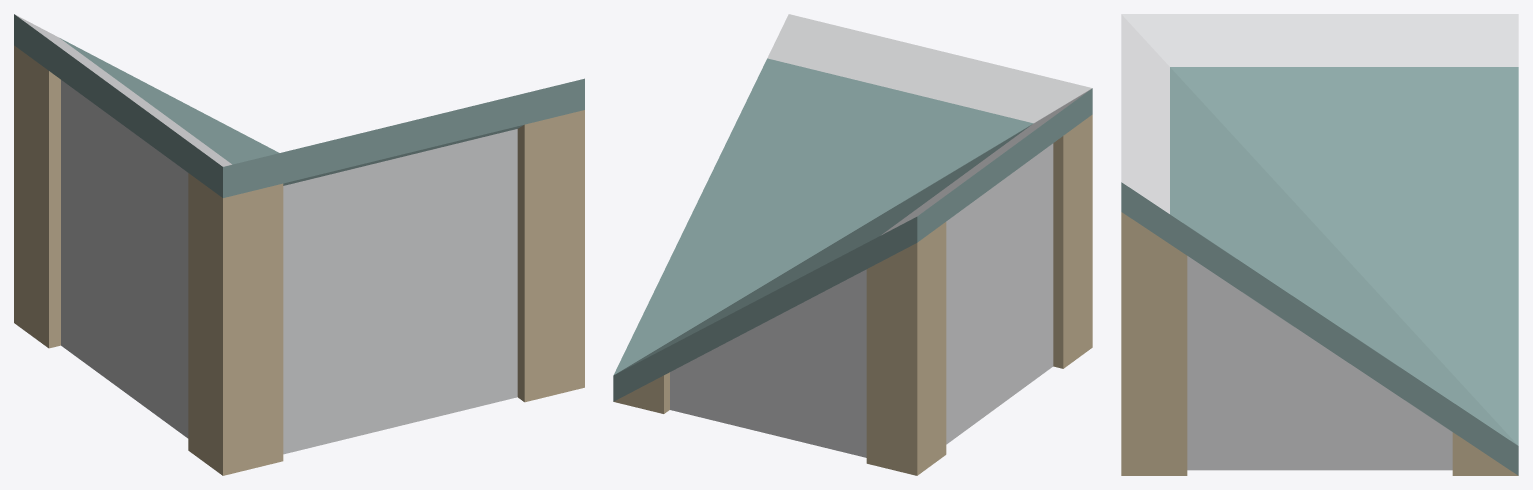
The model's file is Roof_Inner_Corner_Green_01.glb.
3 renders of one model, left to right at view 1: azimuth 30°, elevation 25°; view 2: azimuth 150°, elevation 25°; view 3: azimuth 270°, elevation 25°, orthographic. The views are drawn at different scales.
Parts seen in each view (by area): view 1: Mesh1 Roof_Inner_Corner_Green Model; view 2: Mesh1 Roof_Inner_Corner_Green Model; view 3: Mesh1 Roof_Inner_Corner_Green Model.
Boxes of the visible parts, <box> form: Mesh1 Roof_Inner_Corner_Green Model: <box>14,14,584,475</box>; Mesh1 Roof_Inner_Corner_Green Model: <box>613,14,1092,475</box>; Mesh1 Roof_Inner_Corner_Green Model: <box>1121,14,1518,475</box>.
Size of the model in its own units: 3 by 2.45 by 3.
